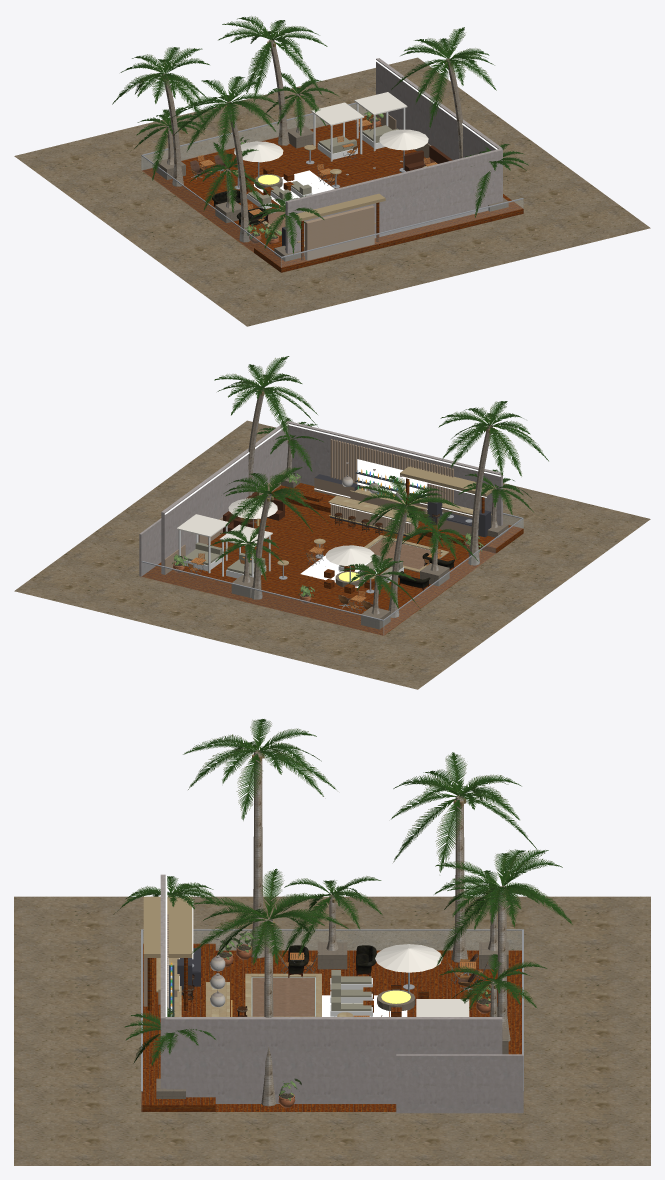
The model's file is venues.glb.
3 views of the same model, one above another, from view 1: azimuth 30°, elevation 25°; view 2: azimuth 150°, elevation 25°; view 3: azimuth 270°, elevation 25° (orthographic). The views are drawn at different scales.
Parts seen in each view (by area): view 1: beach-room-mesh, rooftop-room-mesh, lounge-room-mesh; view 2: beach-room-mesh, rooftop-room-mesh, lounge-room-mesh; view 3: beach-room-mesh, rooftop-room-mesh, lounge-room-mesh.
Part boxes in pixels (bbox=[...]): beach-room-mesh: bbox=[14, 16, 650, 326]; rooftop-room-mesh: bbox=[134, 72, 528, 267]; lounge-room-mesh: bbox=[233, 58, 502, 253]; beach-room-mesh: bbox=[14, 356, 650, 689]; rooftop-room-mesh: bbox=[139, 418, 533, 635]; lounge-room-mesh: bbox=[161, 421, 502, 593]; beach-room-mesh: bbox=[14, 719, 650, 1165]; rooftop-room-mesh: bbox=[113, 870, 547, 1113]; lounge-room-mesh: bbox=[160, 874, 502, 1103].
Size of the model in its own units: 30 by 12.08 by 30.
Materials: 39 (20 with a texture image).
